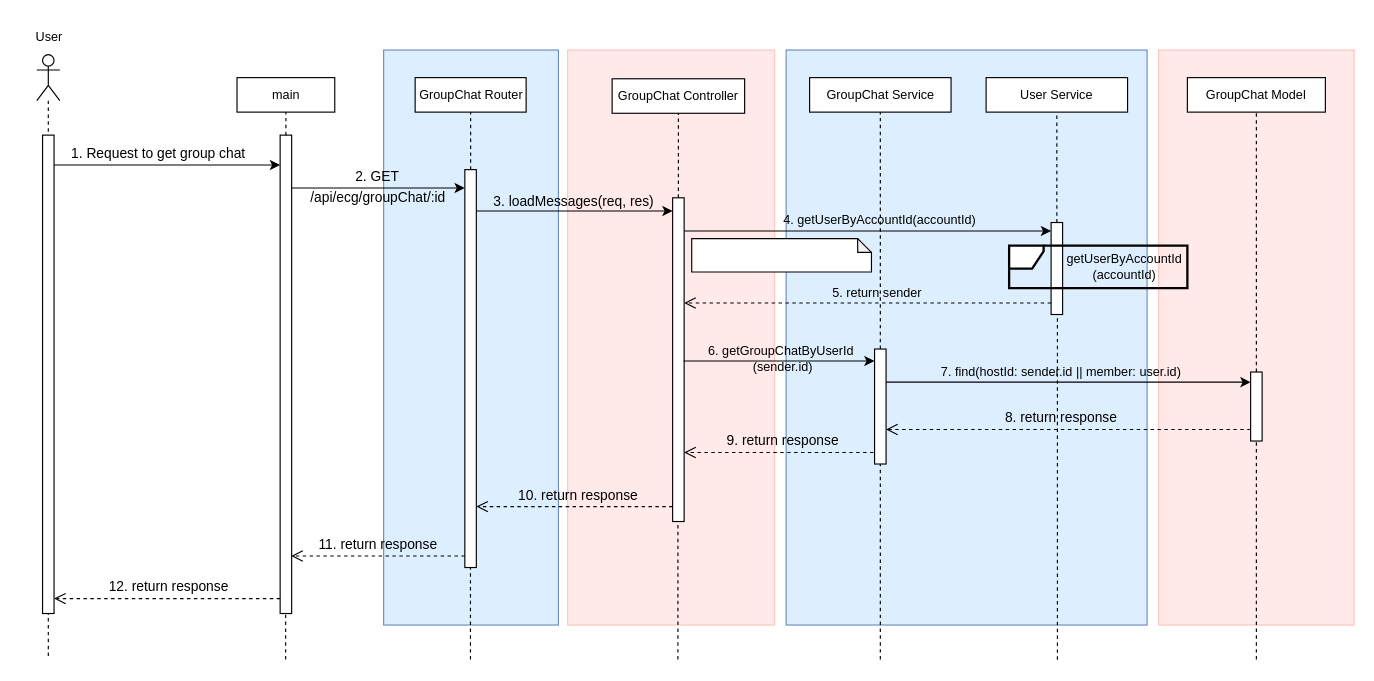
Image size: 1374x681. Some labels were removed from this diagram. The shapes that lost their labels are listed below. From the top down, each one's box as (x1, y1, x2, y2) in pixels, then its label:
(691, 237, 871, 272): accountId = req.user.accountId
(1007, 244, 1188, 289): ref
